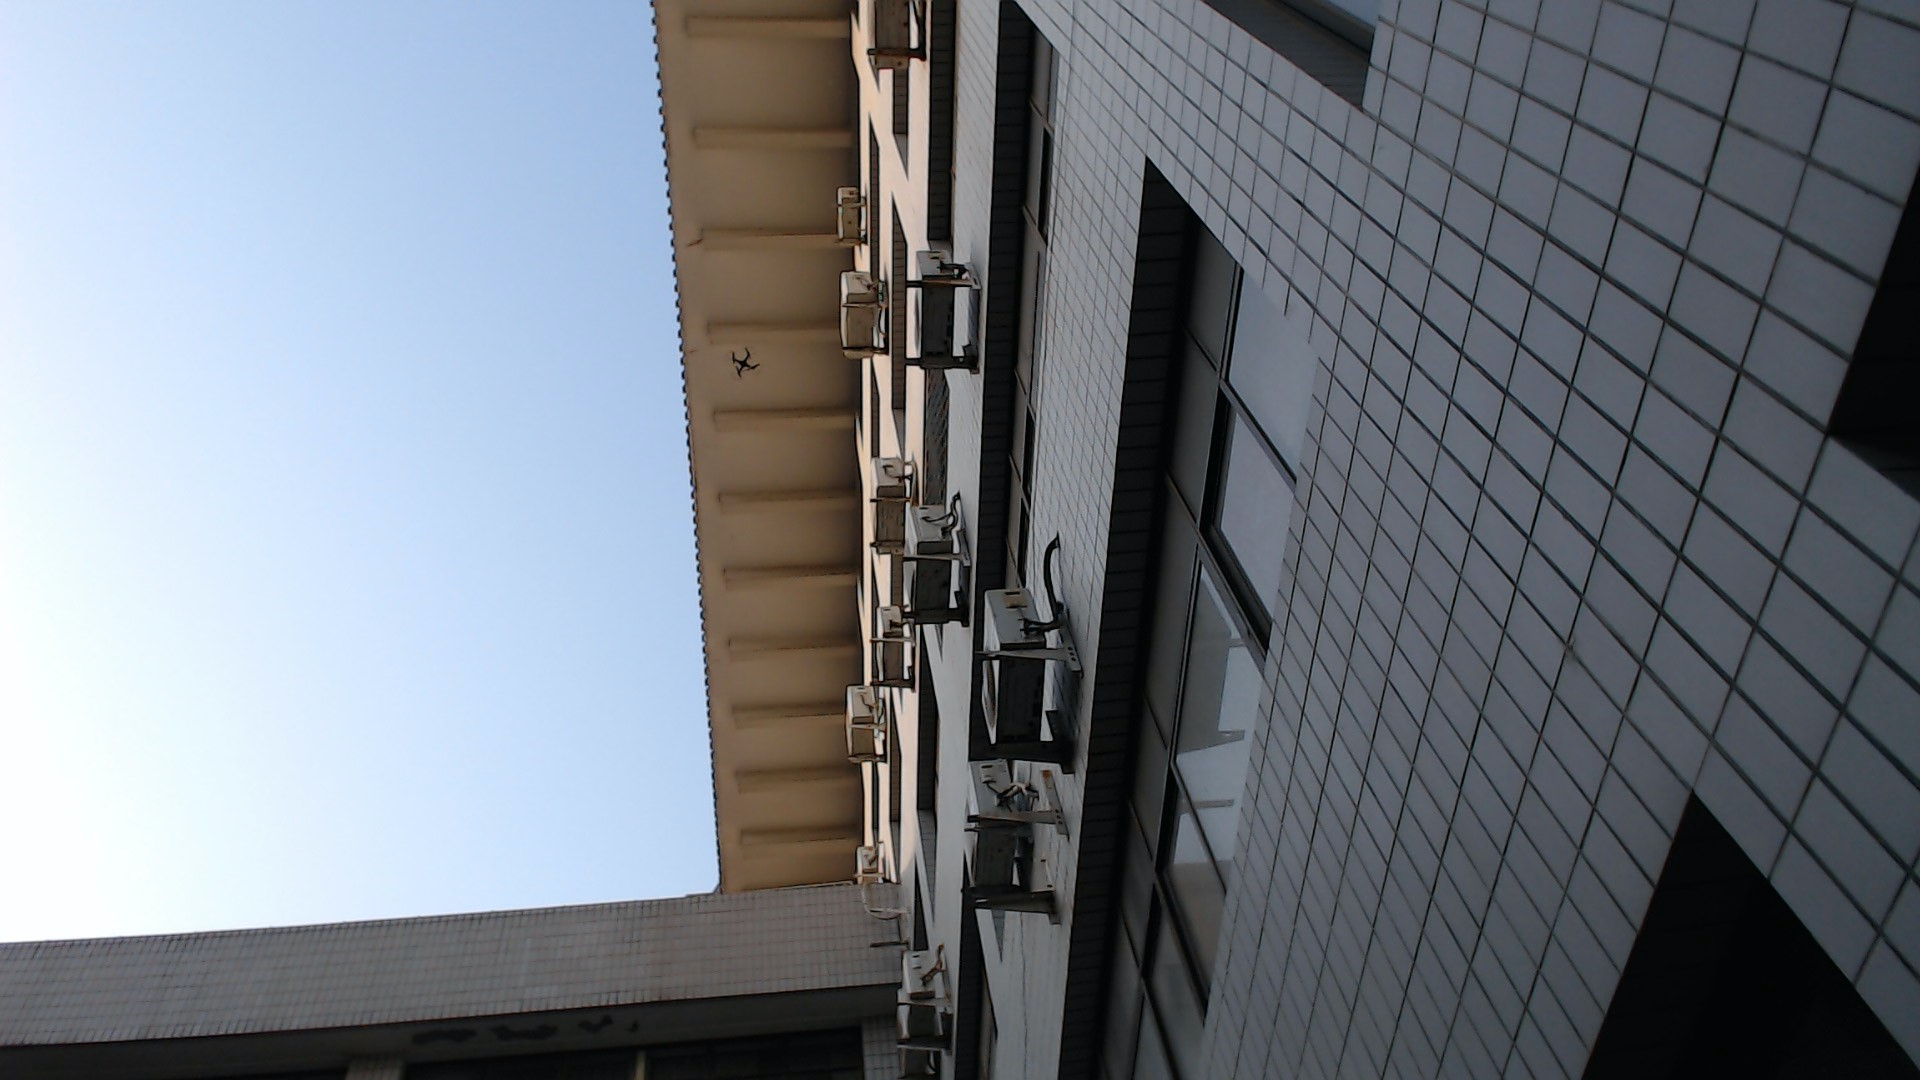drone: (705, 326, 778, 400)
